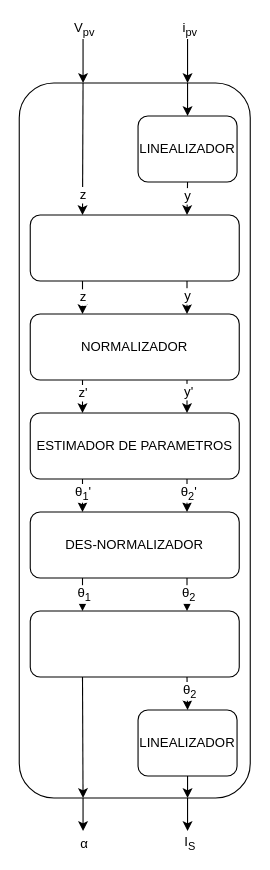
Image size: 270x870. Some labels were removed from this diagram. Each missing label, with the centre of its shape:
"CONVERTIDOR PUNTO FIJO - PUNTO FLOTANTE" goes at pixel 134 643.
"CONVERTIDOR PUNTO FLOTANTE - PUNTO FIJO" goes at pixel 134 247.
